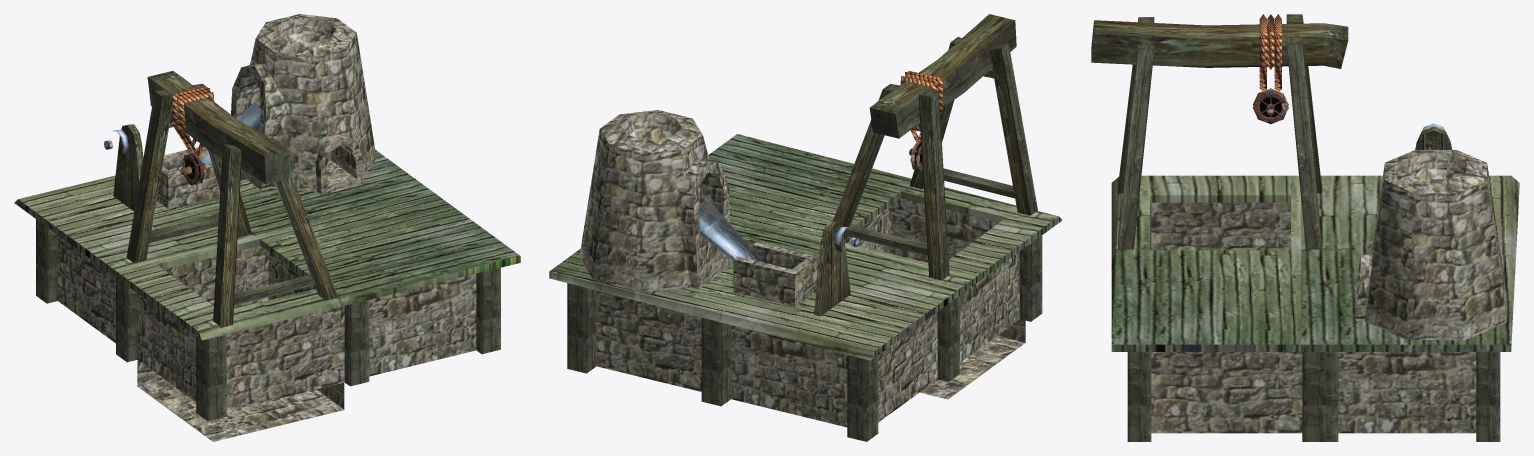
The model's file is building_iron_mine.glb.
The picture shows the model from 3 angles, left to right: view 1: azimuth 30°, elevation 25°; view 2: azimuth 150°, elevation 25°; view 3: azimuth 270°, elevation 25°; orthographic projection. The views are drawn at different scales.
Parts seen in each view (by area): view 1: building_iron_mine; view 2: building_iron_mine; view 3: building_iron_mine.
Part boxes in pixels (x1=…): building_iron_mine: x1=14, y1=14, x2=520, y2=441; building_iron_mine: x1=549, y1=14, x2=1062, y2=441; building_iron_mine: x1=1091, y1=14, x2=1519, y2=441.
Size of the model in its own units: 5 by 4.43 by 5.36.
7 materials, 7 textured.
